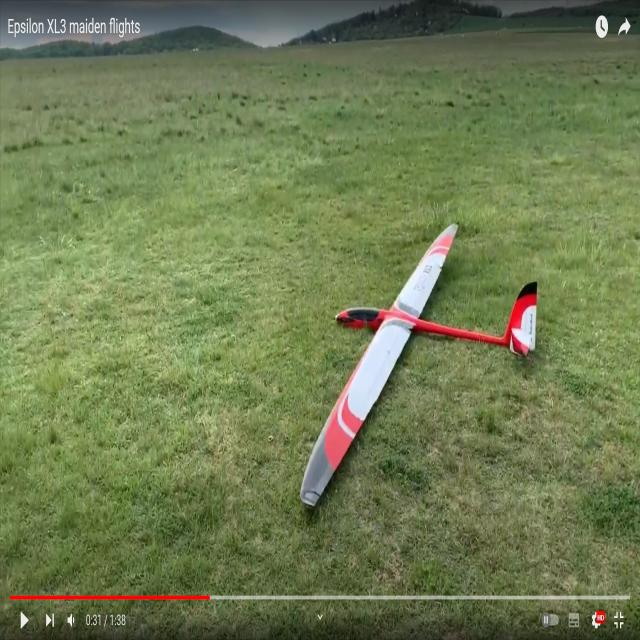iha: (299, 221, 536, 509)
